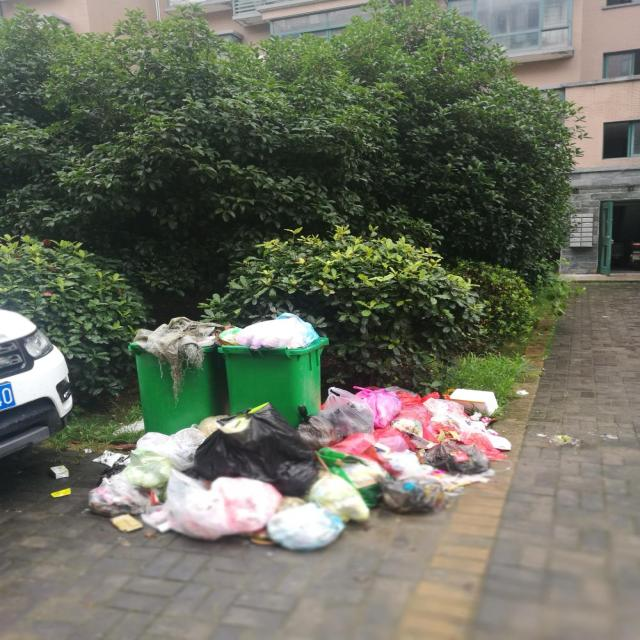garbage: (51, 387, 512, 551)
overflow: (216, 313, 328, 427), (129, 316, 218, 432)
